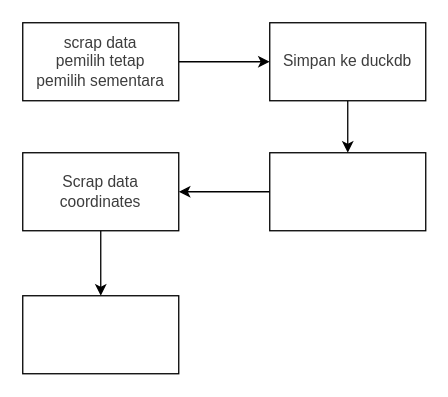
The diagram is 448 pixels wide and 397 high, and some of its shapes have lost their labels. The centre of each missing label's shape, as x and y in pixels:
data preprocessing (UDF): [347,191]
Digging some insights: [100,334]
